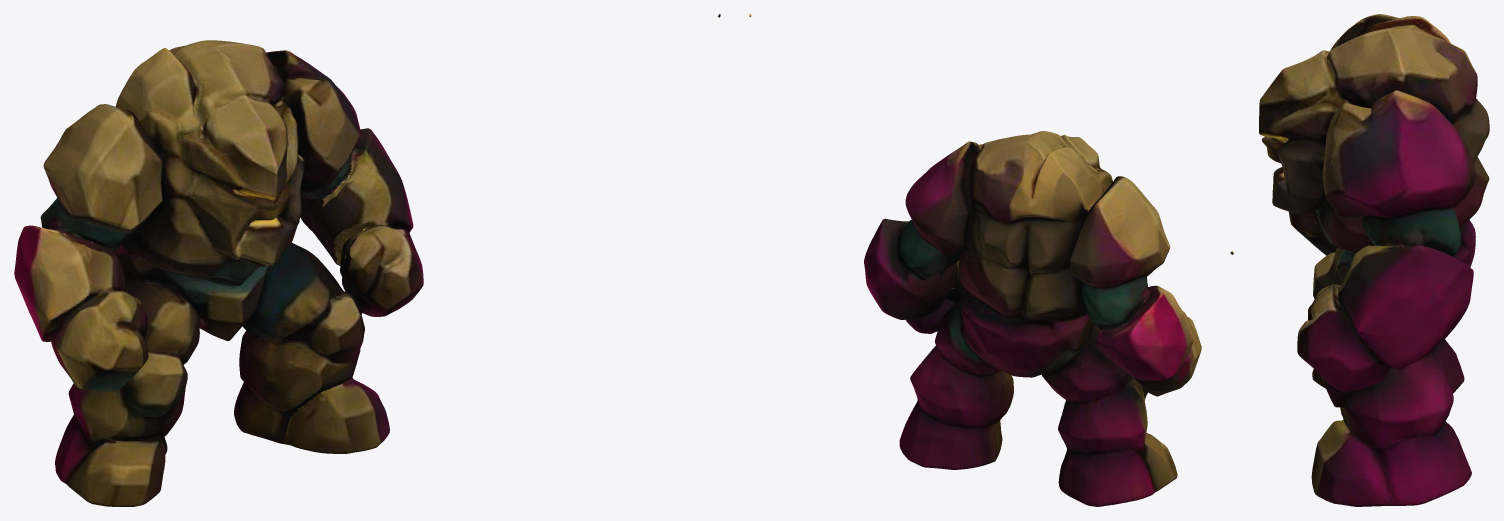
Rendered from JUGGERNAUT.glb.
3 views of the same model, side by side, from view 1: azimuth 30°, elevation 25°; view 2: azimuth 150°, elevation 25°; view 3: azimuth 270°, elevation 25° (orthographic). The views are drawn at different scales.
Parts seen in each view (by area): view 1: JUGGERNAUT_512; view 2: JUGGERNAUT_512; view 3: JUGGERNAUT_512.
Boxes of the visible parts, x1,y1,x2,y2 form: JUGGERNAUT_512: (14, 14, 720, 506); JUGGERNAUT_512: (749, 14, 1201, 506); JUGGERNAUT_512: (1230, 14, 1489, 506).
Bounding box in the file's own units: 1.99 × 1.27 × 0.7334.
1 material, 1 textured.
